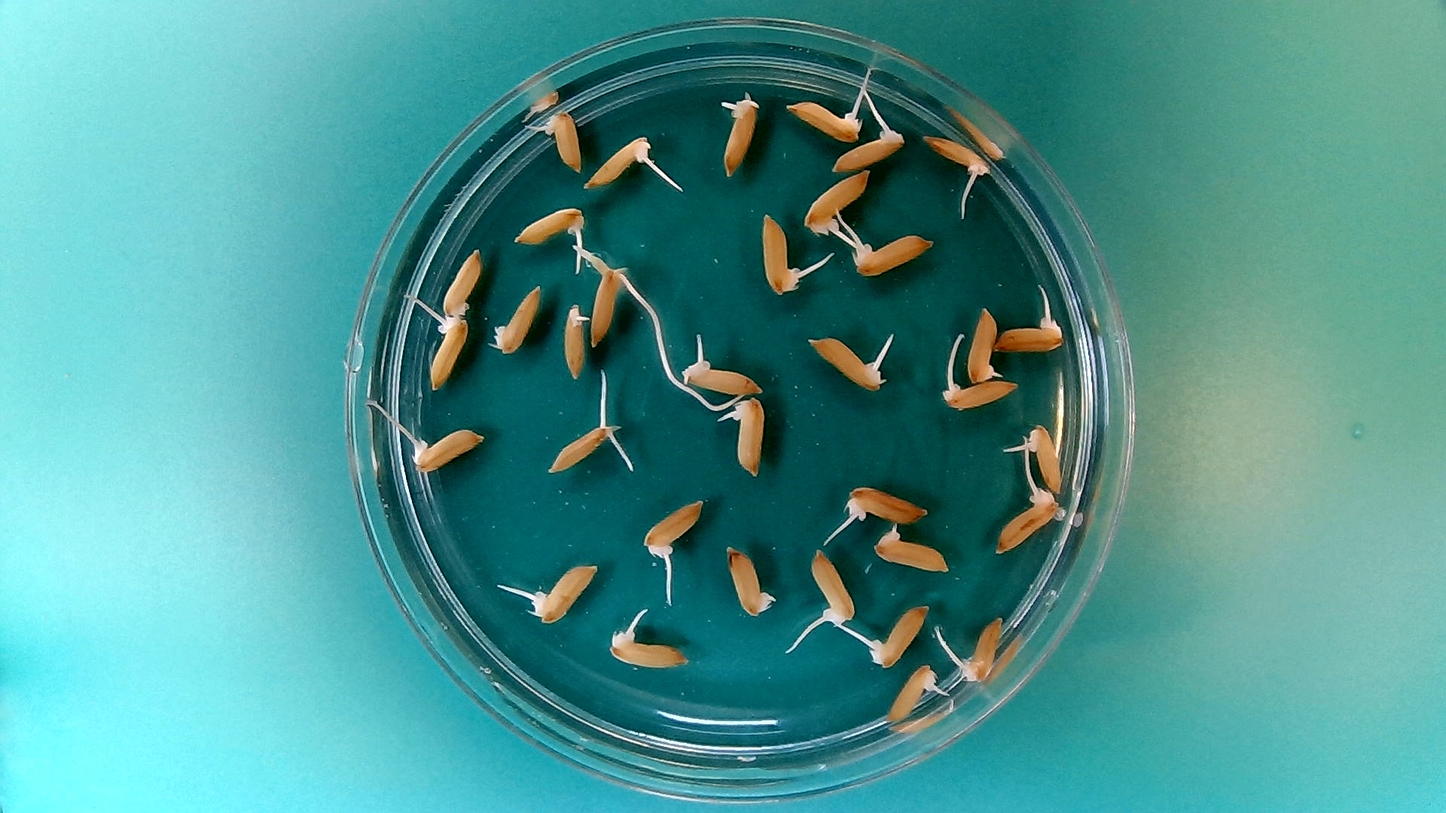no: (493, 281, 543, 357), (440, 245, 484, 319)
yes: (521, 559, 601, 626), (996, 492, 1063, 556), (866, 601, 931, 666), (807, 169, 870, 233), (811, 334, 881, 391), (545, 421, 615, 475), (643, 495, 700, 560), (426, 311, 470, 393), (851, 233, 932, 276), (810, 546, 854, 625), (410, 425, 482, 473), (829, 126, 904, 172), (886, 662, 941, 724), (721, 93, 760, 179), (724, 547, 770, 619), (590, 136, 654, 187), (917, 131, 989, 176), (959, 617, 1007, 680), (514, 203, 580, 247), (850, 485, 926, 523), (731, 399, 766, 480), (606, 635, 687, 670), (967, 302, 1002, 382), (873, 536, 953, 571), (760, 212, 795, 291), (1025, 424, 1063, 496), (993, 315, 1061, 355), (792, 102, 861, 141), (681, 363, 762, 396), (590, 266, 624, 344), (944, 376, 1018, 410), (560, 298, 590, 381), (548, 110, 584, 175)
